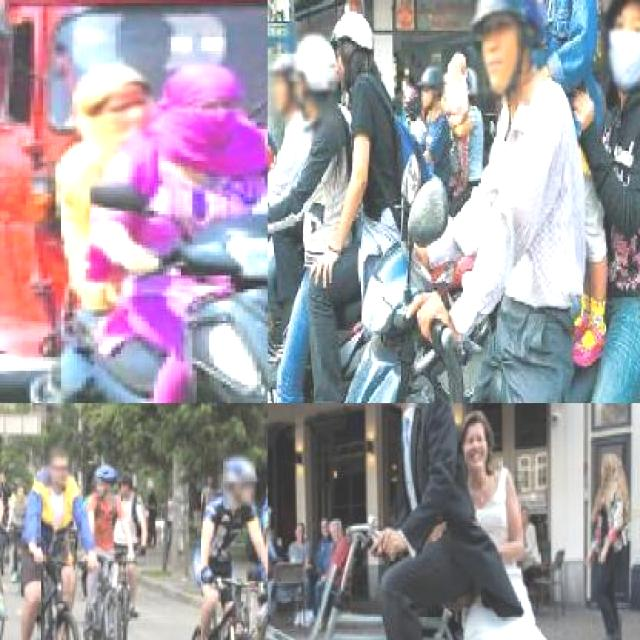With Helmet: (469, 0, 548, 108), (285, 23, 340, 142), (600, 0, 638, 94), (331, 5, 377, 76), (224, 449, 258, 508), (269, 54, 300, 118), (420, 64, 446, 114), (91, 460, 117, 491)
Without Helmet: (146, 55, 248, 154), (73, 62, 158, 149), (45, 444, 72, 490)
